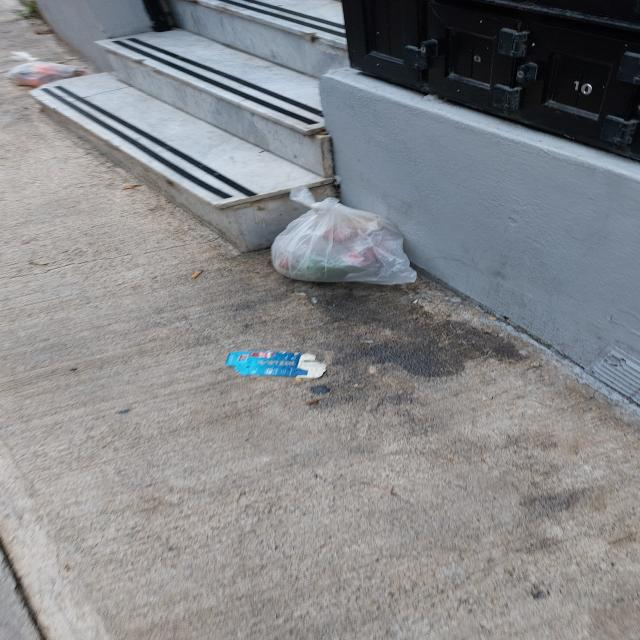Organic Waste -White Bag-: (273, 199, 418, 289)
